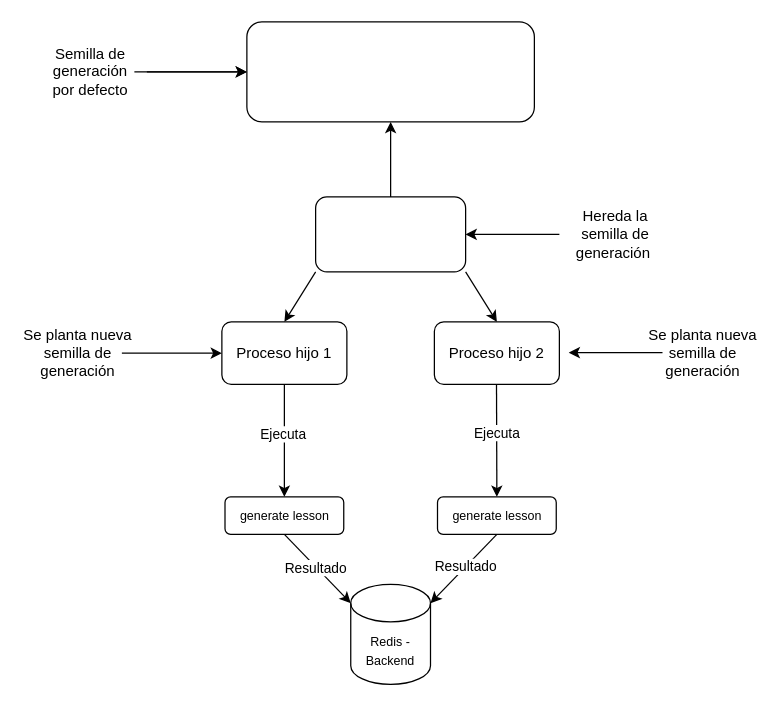
Image size: 780x706. Some labels were removed from this diagram. Here are the shapes that lost their labels. From the top down, the centre of each, then its label:
At point (390, 71): "Proceso principal Worker de Celery".
At point (390, 234): "Pool de procesos hijos (generate lessons)".
